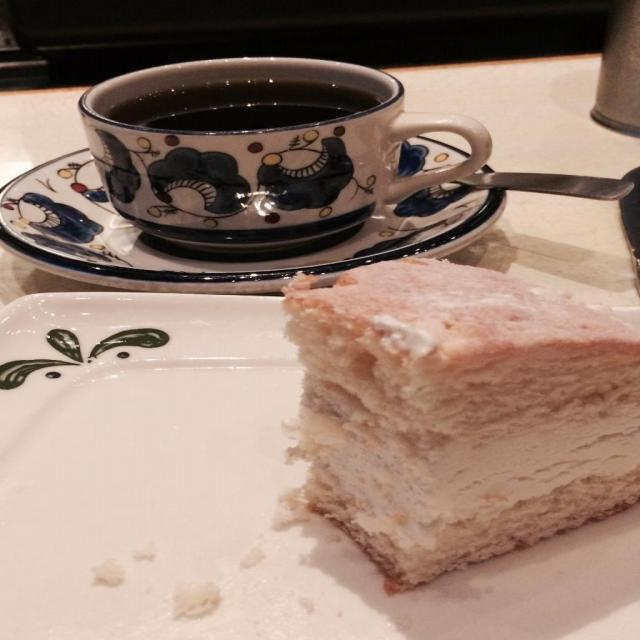cup-handle: (76, 56, 495, 260)
